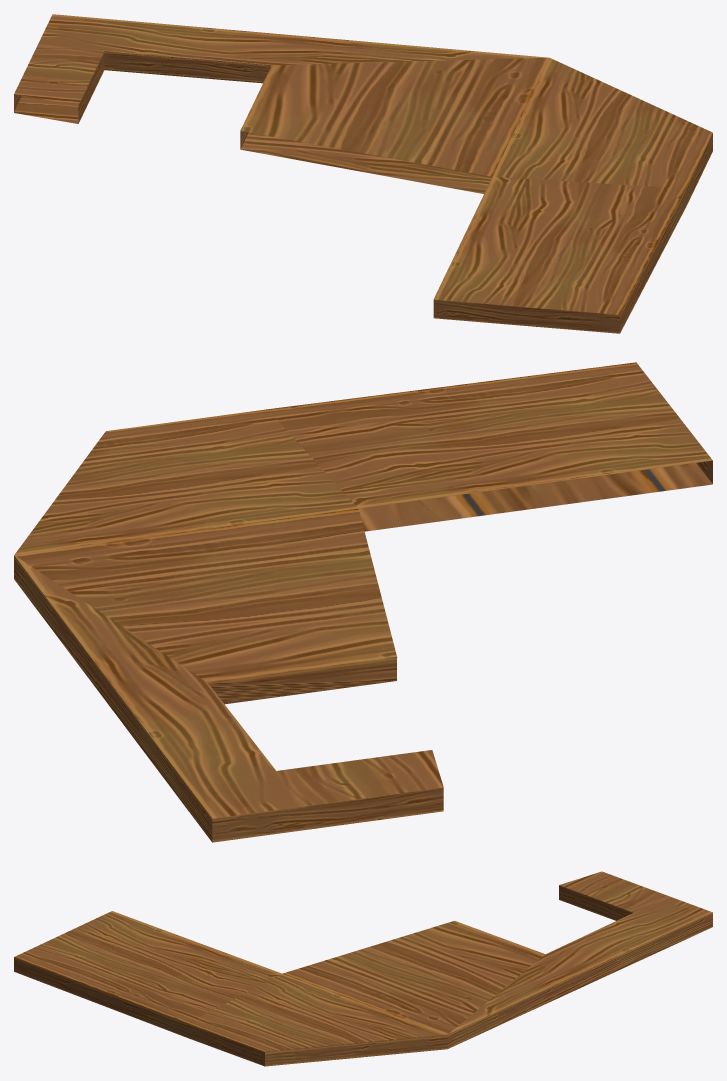
The picture shows the model from 3 angles, top to bottom: view 1: azimuth 30°, elevation 25°; view 2: azimuth 150°, elevation 25°; view 3: azimuth 270°, elevation 25°; orthographic projection. The views are drawn at different scales.
Visible parts, largest first — view 1: Cube.1886; view 2: Cube.1886; view 3: Cube.1886.
Part boxes in pixels (left/top/right/bottom): Cube.1886: left=14, top=14, right=712, bottom=333; Cube.1886: left=14, top=362, right=712, bottom=842; Cube.1886: left=14, top=871, right=712, bottom=1066.
Bounding box in the file's own units: 1142 × 49.12 × 1846.
1 material, 1 textured.
